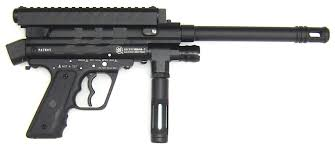gun: (3, 2, 331, 150)
